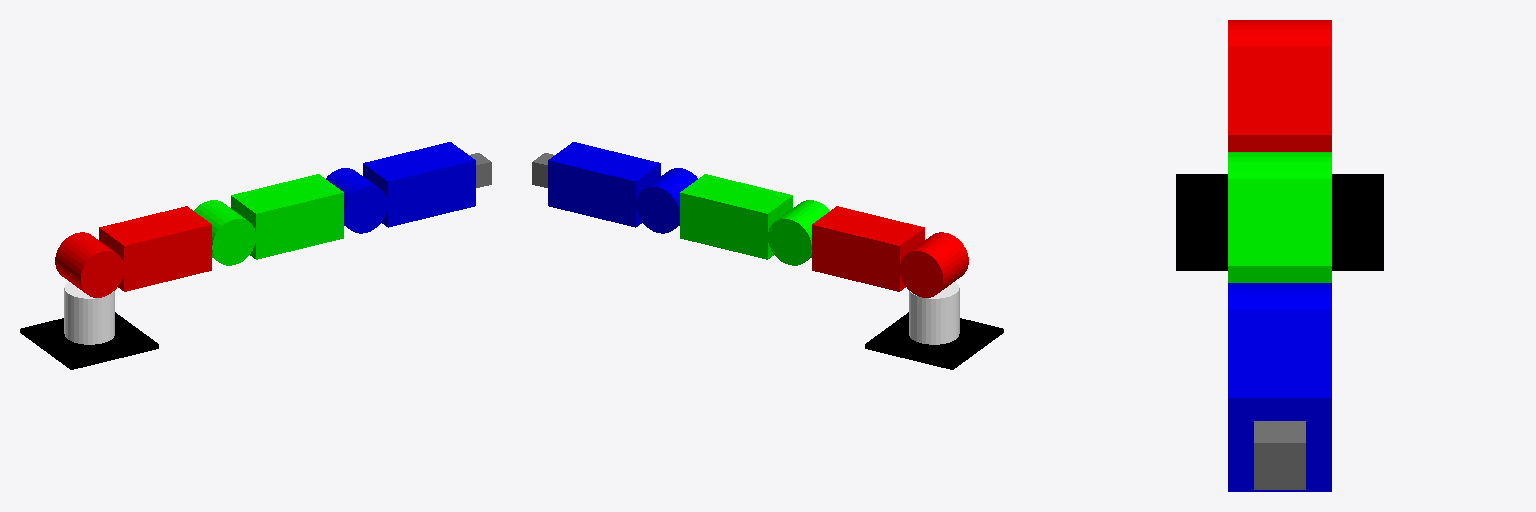
The robot description file, URDF, robot "testbot":
<robot name="testbot">

<!-- Links -->
	<link name="world"/>

	<link name="base_link">
		<visual>
			<origin xyz="0 0 0.01" rpy="0 0 0"/>
			<geometry>
				<box size="0.2 0.2 0.01"/>
			</geometry>
			<material name="black">
				<color rgba="0.0 0.0 0.0 1.0"/>
			</material>
		</visual>
	</link>

	<link name="base_cyl">
		<visual>
			<origin xyz="0 0 0.0" rpy="0 0 0"/>
			<geometry>
				<cylinder radius="0.05" length="0.1"/>
			</geometry>
			<material name="white">
				<color rgba="1.0 1.0 1.0 1.0"/>
			</material>
		</visual>
	</link>

	<link name="first_link_cyl">
		<visual>
			<origin xyz="0 0 0.0" rpy="1.57079632679 0 0"/>
			<geometry>
				<cylinder radius="0.05" length="0.1"/>
			</geometry>
			<material name="red">
				<color rgba="1.0 0.0 0.0 1.0"/>
			</material>
		</visual>
	</link>

	<link name="first_link_stick">
		<visual>
			<origin xyz="0 0 0" rpy="0 0 0"/>
			<geometry>
				<box size="0.2 0.1 0.1"/>
			</geometry>
			<material name="red"/>
		</visual>
	</link>

	<link name="second_link_cyl">
		<visual>
			<origin xyz="0 0 0" rpy="1.57079632679 0 0"/>
			<geometry>
				<cylinder radius="0.05" length="0.1"/>
			</geometry>
			<material name="green">
				<color rgba="0.0 1.0 0.0 1.0"/>
			</material>
		</visual>
	</link>

	<link name="second_link_stick">
		<visual>
			<origin xyz="0 0 0" rpy="0 0 0"/>
			<geometry>
				<box size="0.2 0.1 0.1"/>
			</geometry>
			<material name="green"/>
		</visual>
	</link>

	<link name="third_link_cyl">
		<visual>
			<origin xyz="0 0 0" rpy="1.57079632679 0 0"/>
			<geometry>
				<cylinder radius="0.05" length="0.1"/>
 
			</geometry>
			<material name="blue">
				<color rgba="0.0 0.0 1.0 1.0"/>
			</material>
		</visual>
	</link>

	<link name="third_link_stick">
		<visual>
			<origin xyz="0 0 0" rpy="0 0 0"/>
			<geometry>
				<box size="0.2 0.1 0.1"/>
			</geometry>
			<material name="blue"/>
		</visual>
	</link>

	<link name="tcp">
		<visual>
			<origin xyz="0 0 0" rpy="0 1.57079632679 0"/>
			<geometry>
				<box size="0.05 0.05 0.05"/>
			</geometry>
			<material name="gray">
				<color rgba="0.5 0.5 0.5 1.0"/>
			</material>
		</visual>
	</link>

<!-- Fixed -->
	<joint name="fixed" type="fixed">
		<parent link="world"/>
		<child link="base_link"/>
	</joint>

	<joint name="first_cyl_to_stick" type="fixed">
		<parent link="first_link_cyl"/>
		<child link="first_link_stick"/>
		<origin xyz="0.15 0 0"/>
	</joint>
	<joint name="second_cyl_to_stick" type="fixed">
		<parent link="second_link_cyl"/>
		<child link="second_link_stick"/>
		<origin xyz="0.15 0 0"/>
	</joint>
	<joint name="third_cyl_to_stick" type="fixed">
		<parent link="third_link_cyl"/>
		<child link="third_link_stick"/>
		<origin xyz="0.15 0 0"/>
	</joint>
	<joint name="tcp" type="fixed">
		<parent link="third_link_stick"/>
		<child link="tcp"/>
		<origin xyz="0.125 0 0"/>
	</joint>

<!-- Movables -->
	<joint name="base_joint" type="continuous">
		<parent link="base_link"/>
		<child link="base_cyl"/>
		<origin xyz="0 0 0.07"/>
		<axis xyz="0 0 1"/>
	</joint>
	<joint name="first_joint" type="continuous">
		<parent link="base_cyl"/>
		<child link="first_link_cyl"/>
		<origin xyz="0 0 0.1"/>
		<axis xyz="0 1 0"/>
	</joint>
	<joint name="second_joint" type="continuous">
		<parent link="first_link_stick"/>
		<child link="second_link_cyl"/>
		<origin xyz="0.15 0 0"/>
		<axis xyz="0 1 0"/>
	</joint>
	<joint name="third_joint" type="continuous">
		<parent link="second_link_stick"/>
		<child link="third_link_cyl"/>
		<origin xyz="0.15 0 0"/>
		<axis xyz="0 1 0"/>
	</joint>
</robot>

--- Render facts (derived) ---
3 views of the same robot in one strip: view 1: azimuth 30°, elevation 25°; view 2: azimuth 150°, elevation 25°; view 3: azimuth 270°, elevation 25° (orthographic).
Model testbot with 10 links and 9 joints (4 continuous, 5 fixed), rooted at world, posed every joint at zero.
Links seen in each view (by area): view 1: third_link_stick, second_link_stick, first_link_stick, base_link, first_link_cyl, base_cyl, second_link_cyl, third_link_cyl; view 2: third_link_stick, second_link_stick, first_link_stick, base_link, first_link_cyl, base_cyl, second_link_cyl, third_link_cyl; view 3: third_link_stick, first_link_stick, second_link_stick, base_link, tcp, first_link_cyl, second_link_cyl, third_link_cyl.
Link boxes in pixels (box(x1,y1,x2,y2)): third_link_stick: box(363, 142, 475, 227); second_link_stick: box(231, 174, 343, 259); first_link_stick: box(99, 206, 211, 291); base_link: box(20, 312, 158, 369); first_link_cyl: box(55, 232, 123, 297); base_cyl: box(64, 282, 114, 344); second_link_cyl: box(194, 200, 255, 265); third_link_cyl: box(326, 168, 387, 233); third_link_stick: box(548, 142, 660, 227); second_link_stick: box(680, 174, 792, 259); first_link_stick: box(812, 206, 924, 291); base_link: box(865, 312, 1003, 369); first_link_cyl: box(900, 232, 968, 297); base_cyl: box(909, 282, 959, 344); second_link_cyl: box(768, 200, 829, 265); third_link_cyl: box(636, 168, 697, 233); third_link_stick: box(1228, 310, 1331, 491); first_link_stick: box(1228, 47, 1331, 151); second_link_stick: box(1228, 179, 1331, 282); base_link: box(1176, 174, 1383, 270); tcp: box(1254, 421, 1305, 489); first_link_cyl: box(1228, 20, 1331, 46); second_link_cyl: box(1228, 152, 1331, 178); third_link_cyl: box(1228, 283, 1331, 309).
Size in the robot's own frame: 1 by 0.2 by 0.215 metres.
Geometry: primitives only (box / cylinder / sphere), no mesh files.